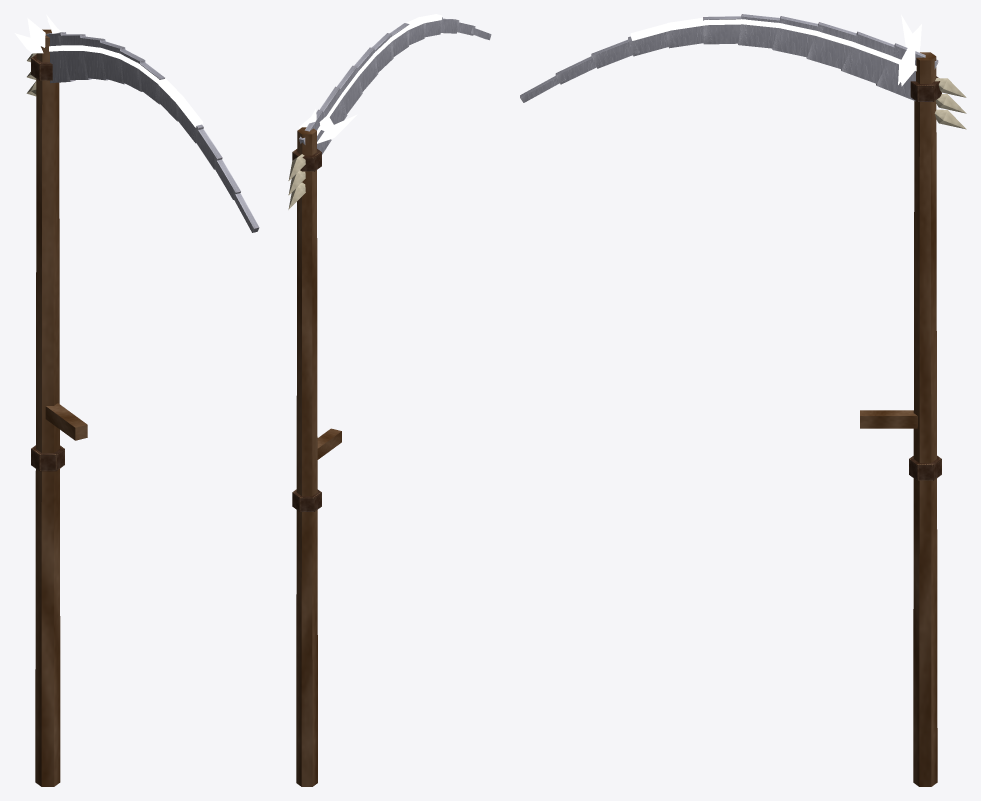
Rendered from Scythe.fbx.
3 renders of one model, left to right at view 1: azimuth 30°, elevation 25°; view 2: azimuth 150°, elevation 25°; view 3: azimuth 270°, elevation 25°, orthographic. The views are drawn at different scales.
Parts seen in each view (by area): view 1: Handle, Blade, Glow; view 2: Handle, Blade, Glow; view 3: Handle, Blade, Glow.
Part boxes in pixels (x1,y1,x2,y2): Handle: (26, 29, 87, 786); Blade: (45, 32, 259, 232); Glow: (14, 14, 202, 127); Handle: (288, 127, 341, 786); Blade: (299, 17, 491, 154); Glow: (299, 14, 442, 143); Handle: (860, 52, 966, 786); Blade: (520, 14, 938, 102); Glow: (630, 14, 921, 86).
Bounding box in the file's own units: 41.82 × 486 × 257.
2 materials, 1 textured.
